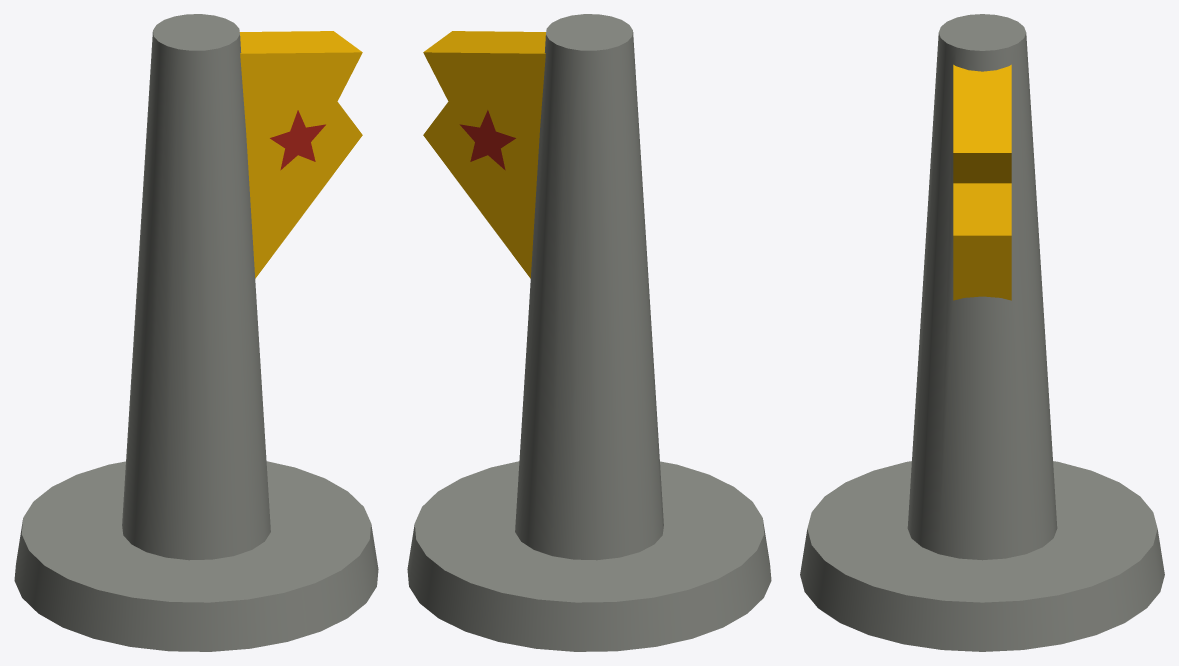
Rendered from startspieler.glb.
3 views of the same model, side by side, from view 1: azimuth 30°, elevation 25°; view 2: azimuth 150°, elevation 25°; view 3: azimuth 270°, elevation 25° (orthographic).
Parts seen in each view (by area): view 1: startspieler; view 2: startspieler; view 3: startspieler.
Boxes of the visible parts, x1,y1,x2,y2 form: startspieler: (14,14,378,651); startspieler: (407,14,771,651); startspieler: (800,14,1164,651).
Bounding box in the file's own units: 13 × 21.32 × 13.
